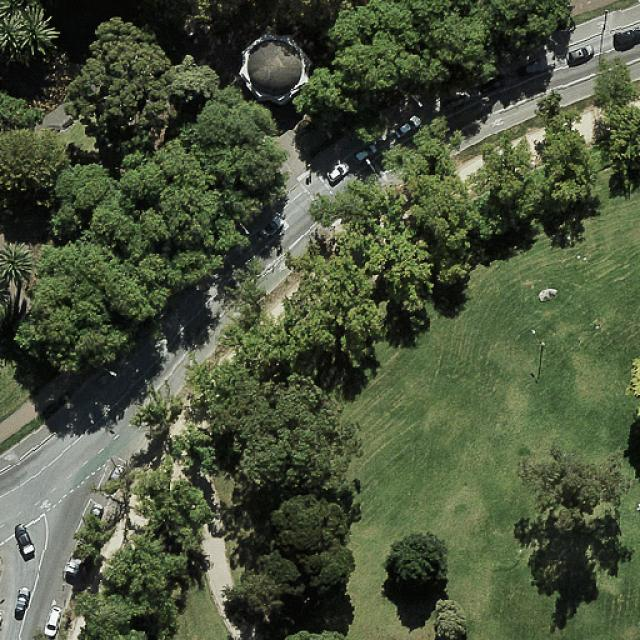Bike-Symbols: (492, 117, 504, 128), (277, 263, 289, 273), (40, 499, 51, 508), (597, 20, 609, 28), (5, 454, 14, 462)
